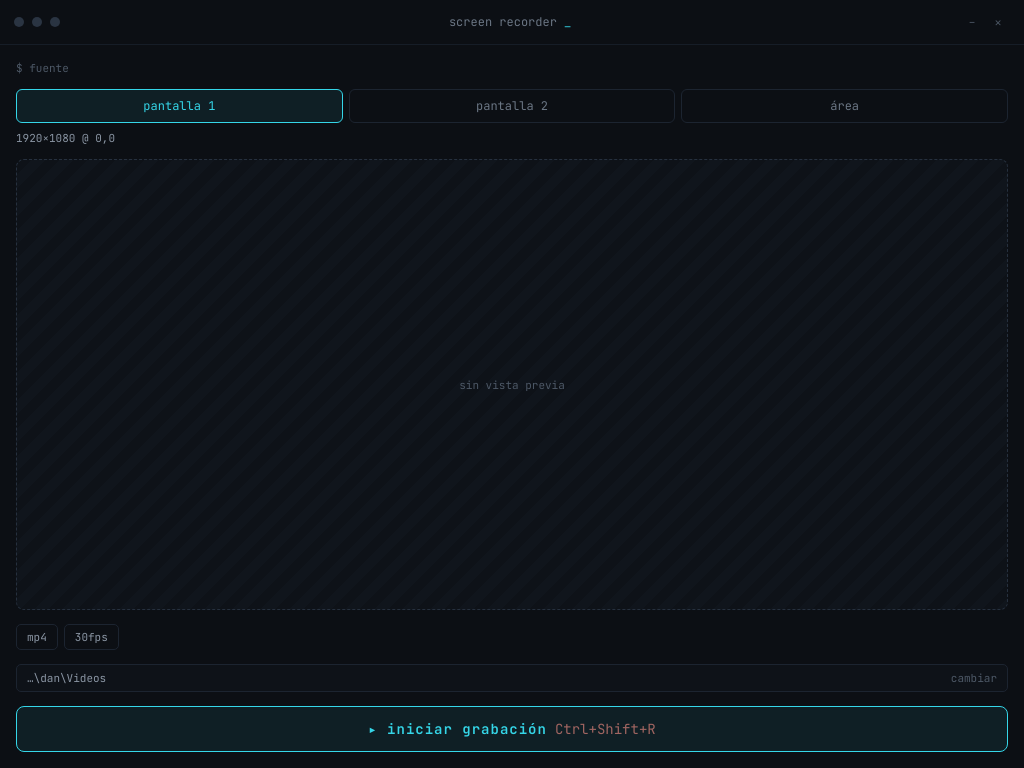
modo selección de área › salir de la selección sin grabar cierra el atenuado
Click the button "área" at (845, 106), box [681,89,1008,123]
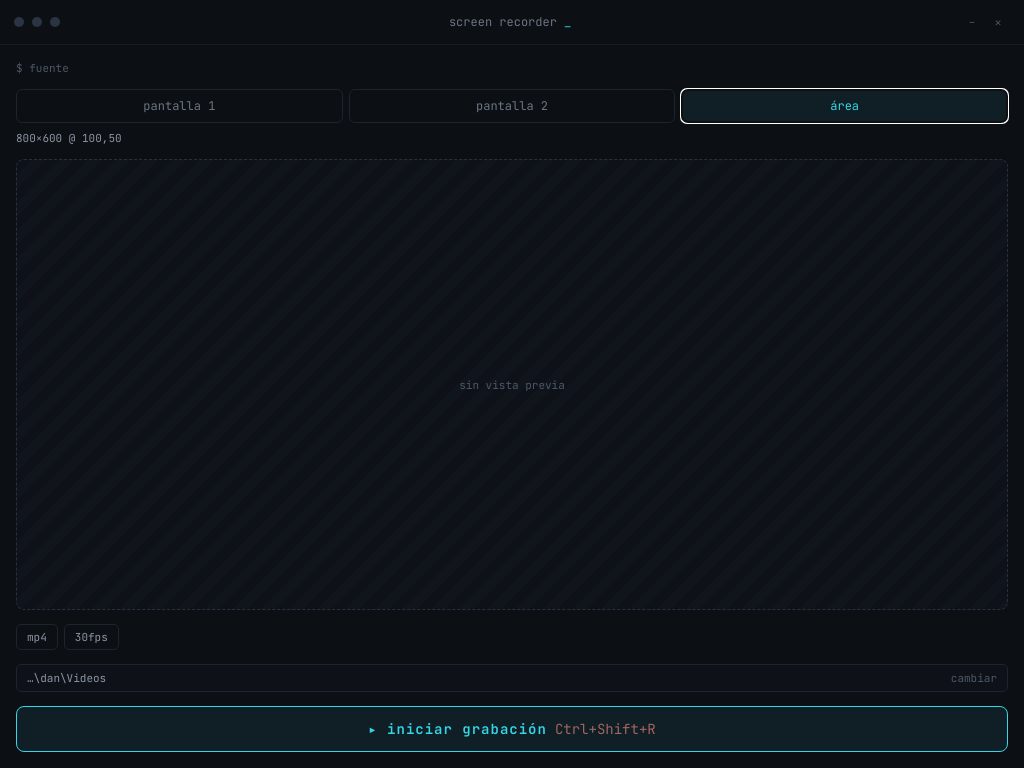
Expected: the text "800×600 @ 100,50" is shown, [16,131,122,145]
